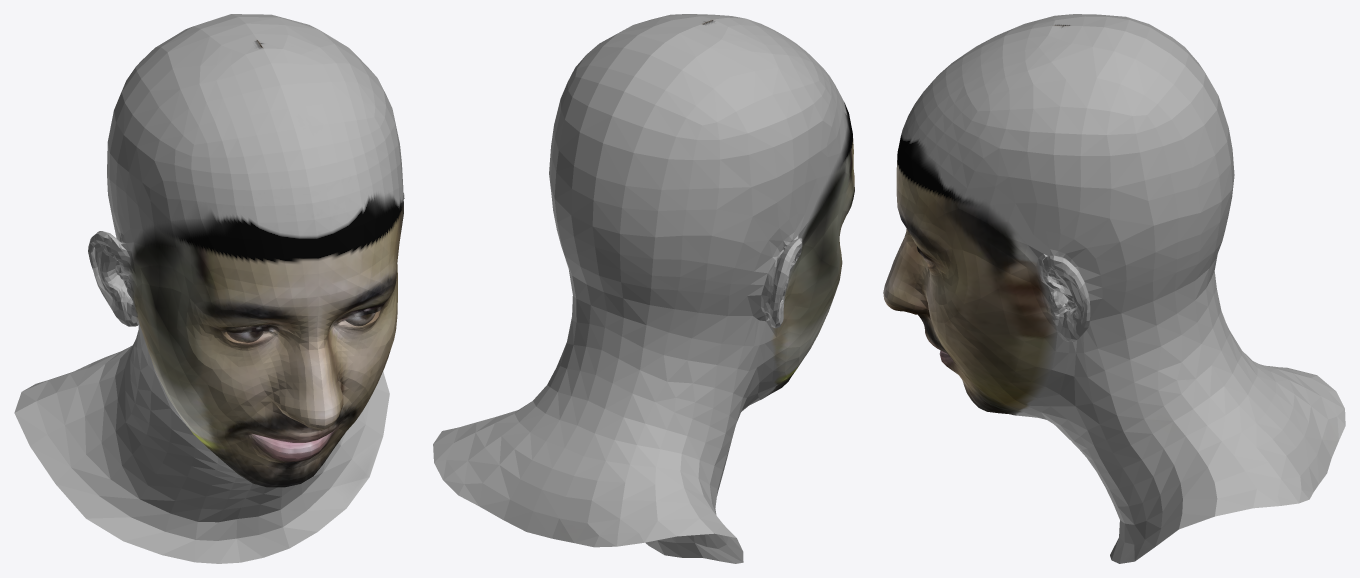
Rendered from ezgif-frame-075.obj.
3 renders of one model, left to right at view 1: azimuth 30°, elevation 25°; view 2: azimuth 150°, elevation 25°; view 3: azimuth 270°, elevation 25°, orthographic. The views are drawn at different scales.
Bounding box in the file's own units: 0.2085 × 0.3293 × 0.2678.
Materials: 1 (1 with a texture image).
